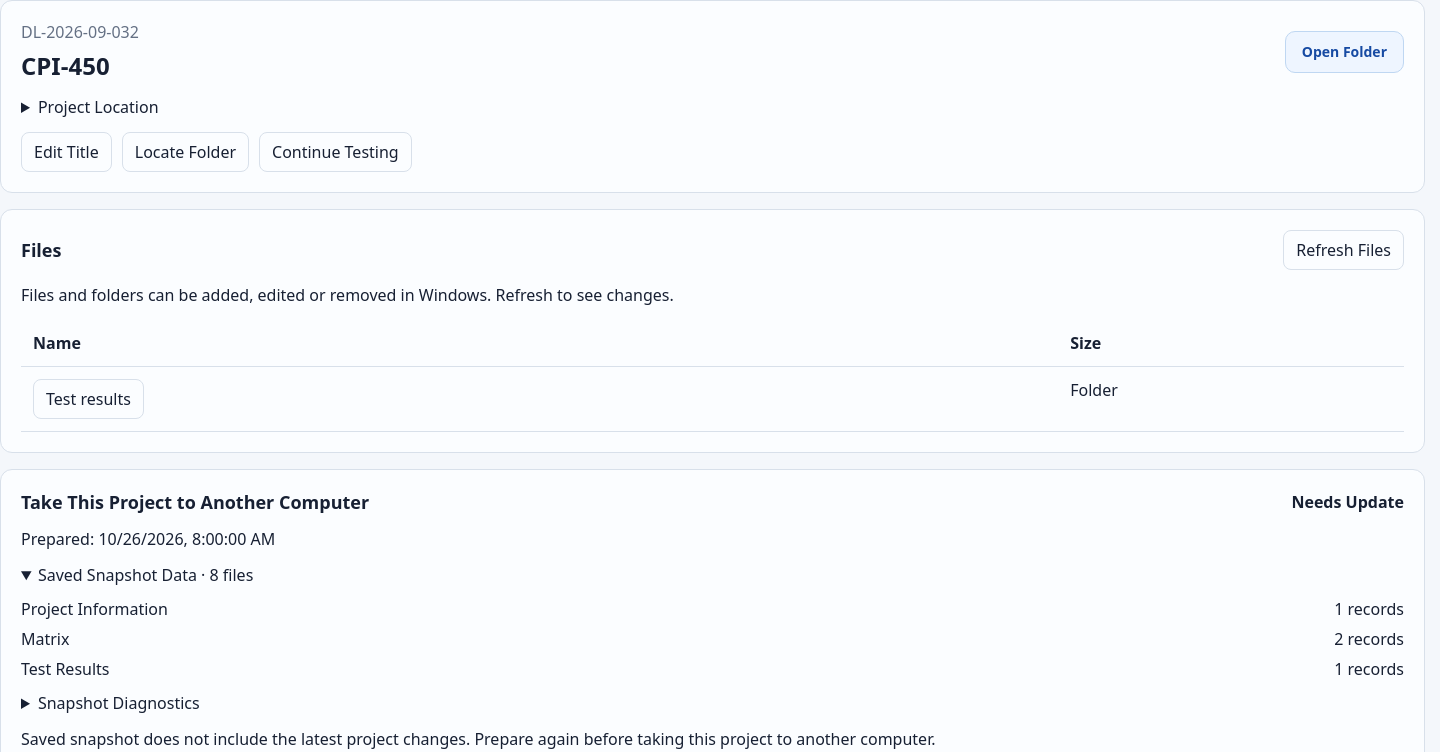
Test: Library project management › refreshes ordinary files and explicitly updates a stale portable snapshot
Click the button "Refresh Files". click: (1344, 250)
box: [1283,230,1404,270]
(page scrolled)
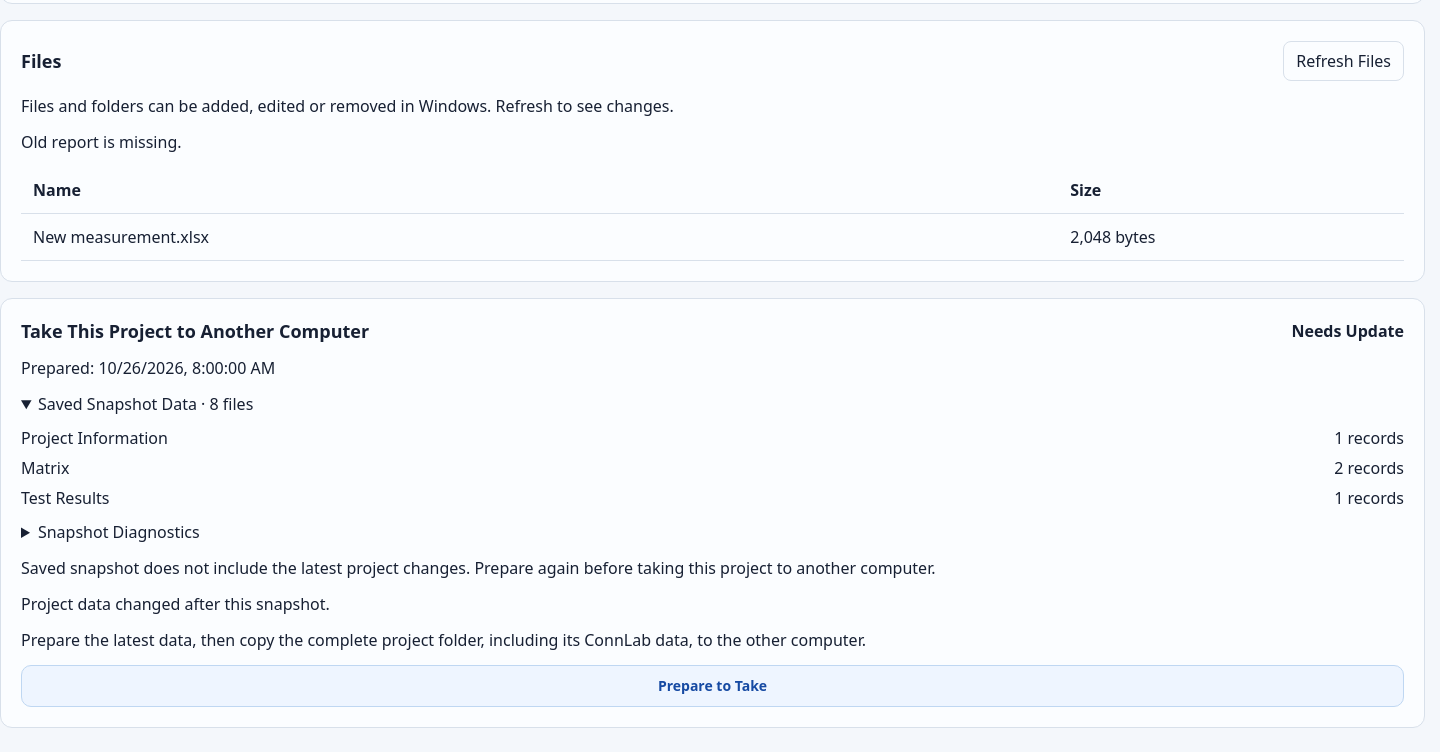
Expected: the text "New measurement.xlsx" is shown, [21,214,1058,260]
Expected: the text "Old report is missing." is shown, [21,131,182,153]
Click the button "Prepare to Take". click: (712, 686)
box: [21,665,1404,707]
(page scrolled)
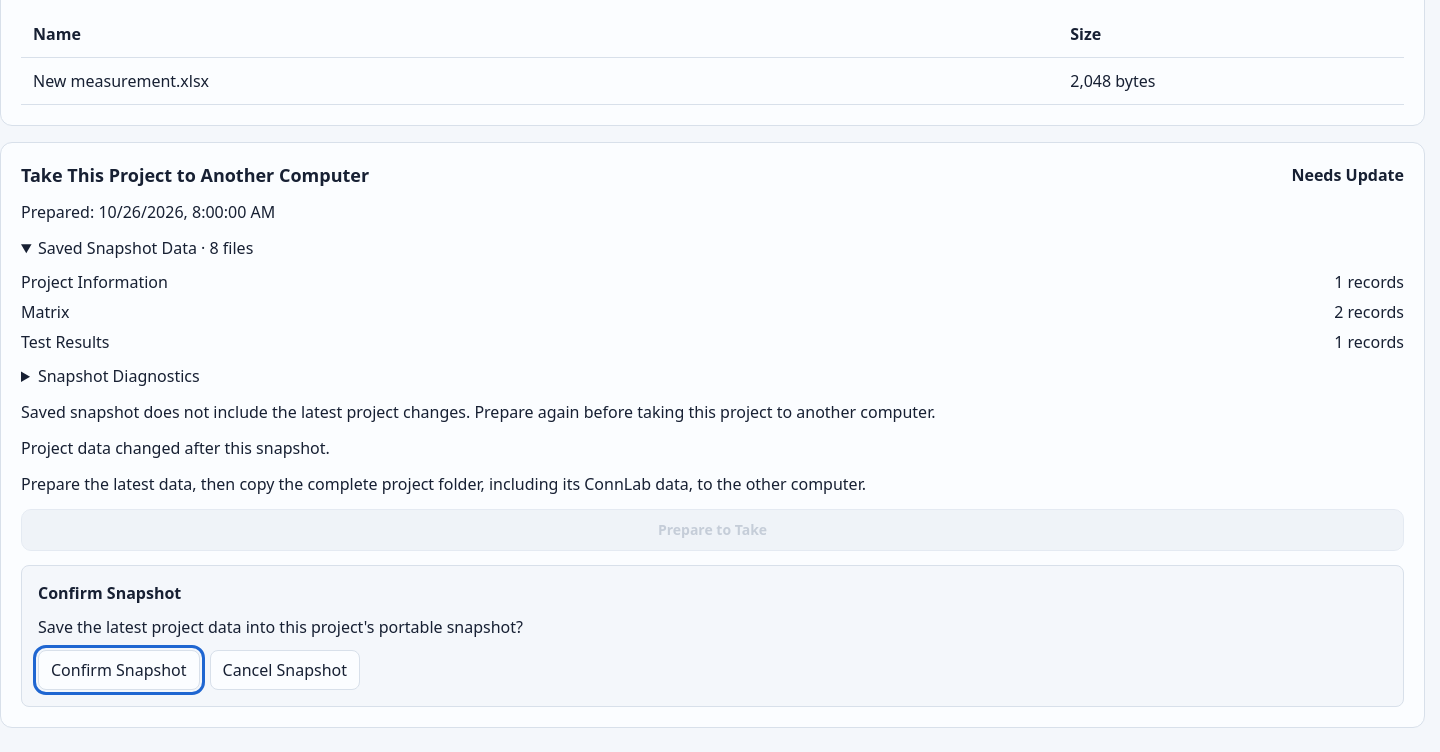
Click the button "Confirm Snapshot". click: (119, 670)
box: [38,650,200,690]
(page scrolled)
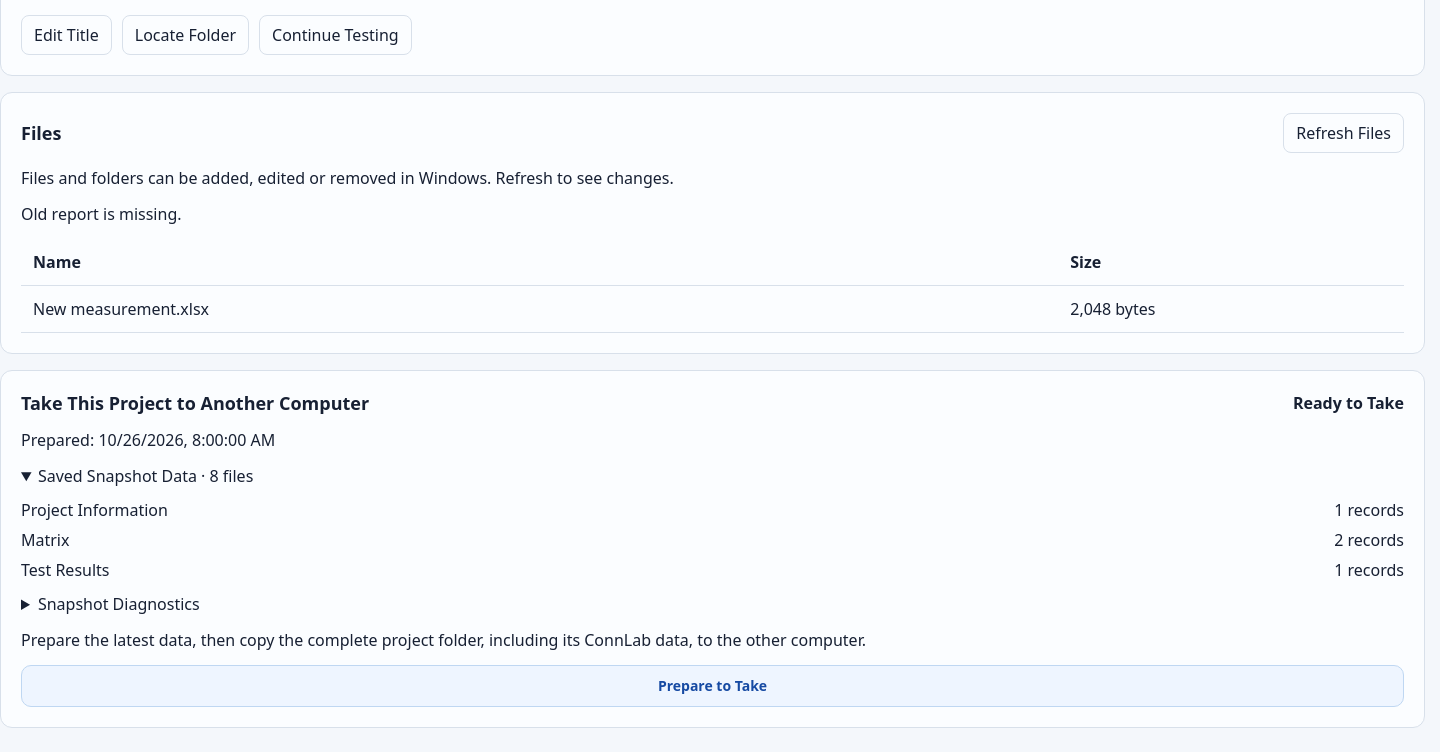
Expected: the text "Ready to Take" is shown, [1293,392,1404,414]
